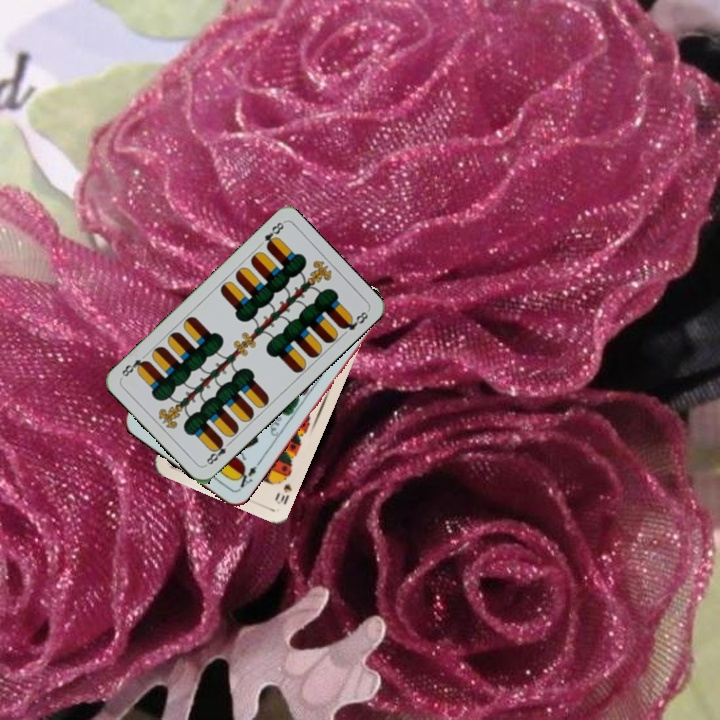E8: (202, 436, 234, 469), (254, 218, 286, 251)
EA: (232, 458, 262, 494)
S10: (270, 470, 295, 507)
